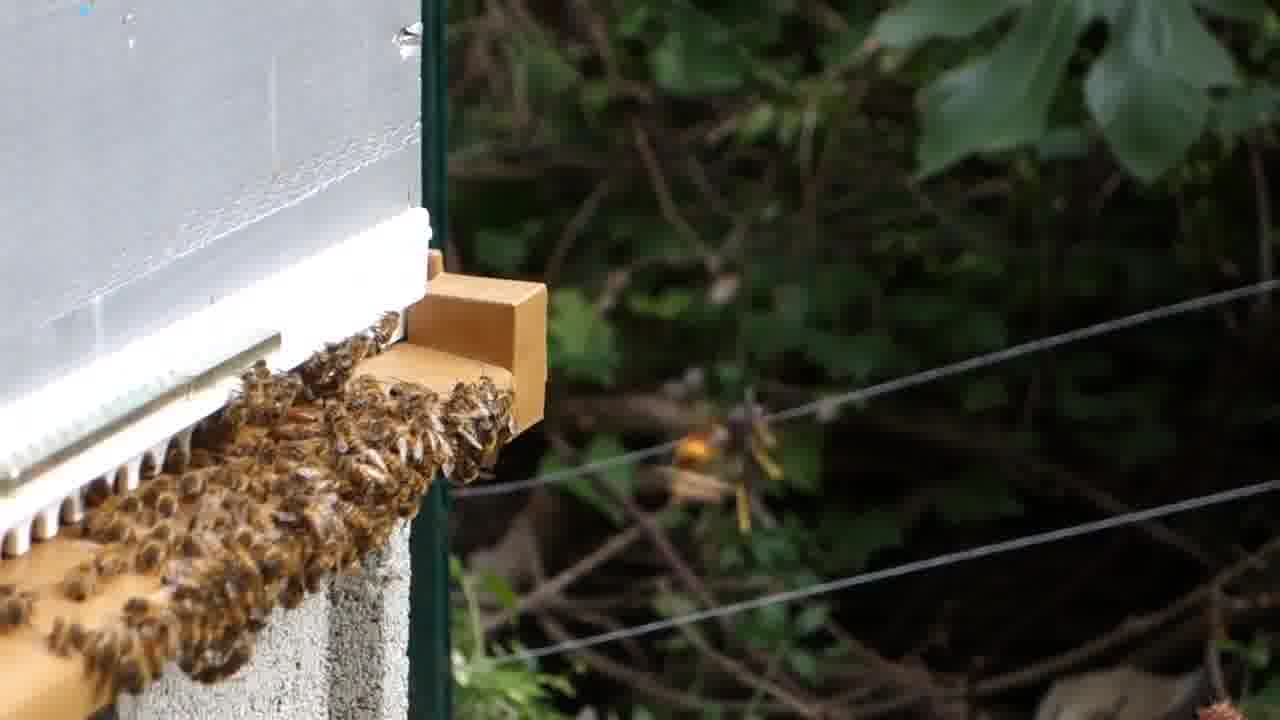bee: (316, 396, 367, 452), (235, 359, 281, 417), (390, 410, 439, 462), (346, 461, 408, 502), (481, 378, 521, 432), (197, 652, 254, 684), (382, 307, 402, 343)
hornet: (665, 393, 790, 532)
